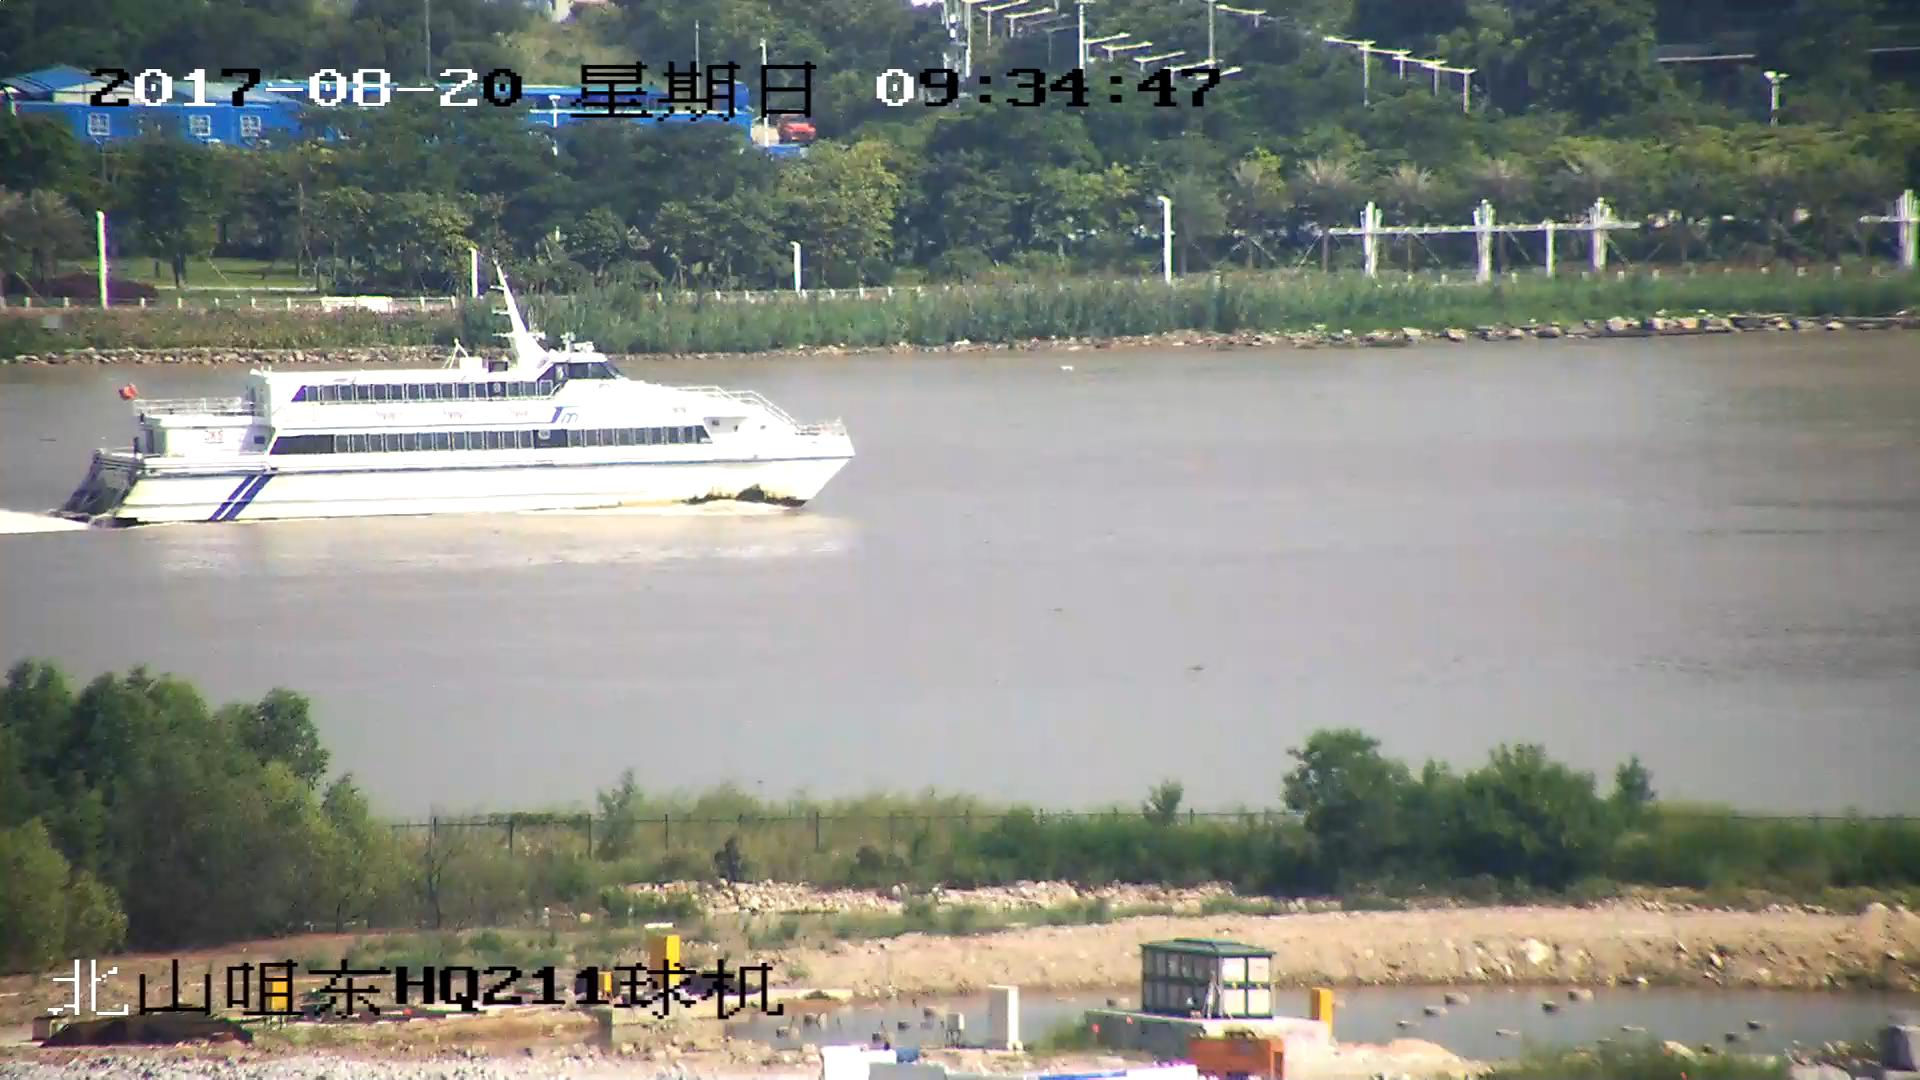passenger ship: (56, 252, 856, 526)
